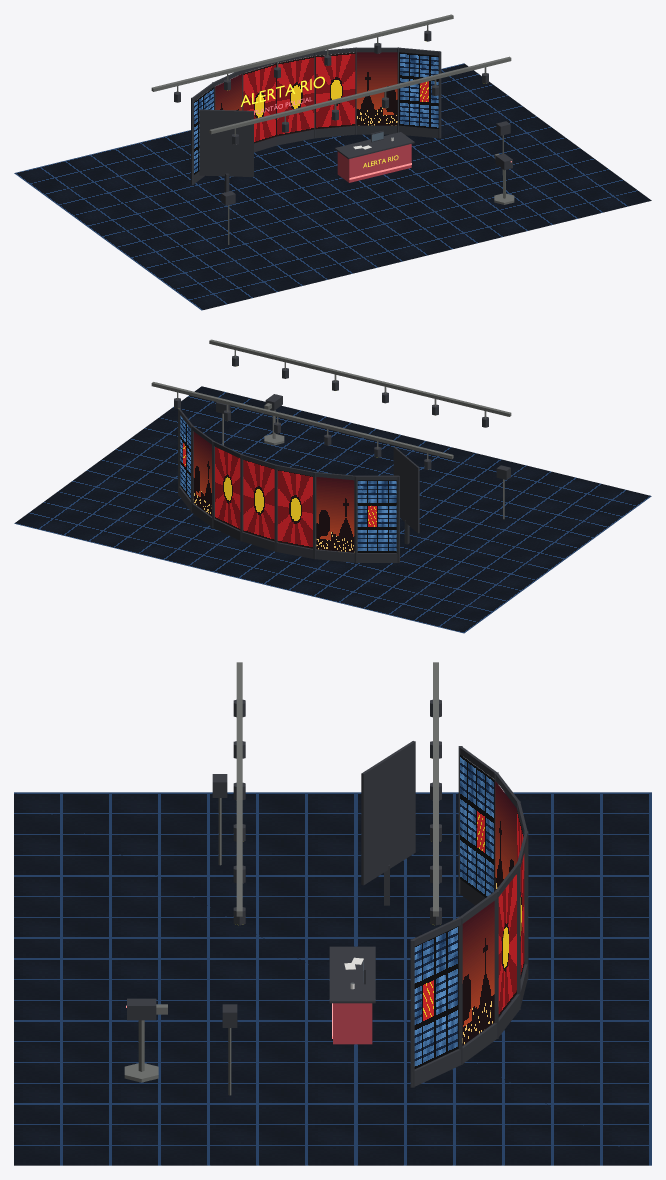
File: studio.glb
3 renders of one model, top to bottom at view 1: azimuth 30°, elevation 25°; view 2: azimuth 150°, elevation 25°; view 3: azimuth 270°, elevation 25°, orthographic. The views are drawn at different scales.
Parts seen in each view (by area): view 1: Lapa_studio_floor, Lapa_gloss_black, Lapa_tela_sirene, Lapa_iron, Lapa_tela_skyline, Lapa_tela_grade, Lapa_desk_red, Lapa_logo_yellow; view 2: Lapa_studio_floor, Lapa_gloss_black, Lapa_tela_sirene, Lapa_tela_skyline, Lapa_iron, Lapa_tela_grade; view 3: Lapa_studio_floor, Lapa_gloss_black, Lapa_tela_grade, Lapa_tela_skyline, Lapa_iron, Lapa_tela_sirene, Lapa_desk_red.
Boxes of the visible parts, left/top/right/bottom form: Lapa_studio_floor: left=14, top=63, right=651, bottom=310; Lapa_gloss_black: left=174, top=30, right=512, bottom=205; Lapa_tela_sirene: left=243, top=52, right=355, bottom=143; Lapa_iron: left=151, top=14, right=514, bottom=244; Lapa_tela_skyline: left=215, top=52, right=397, bottom=125; Lapa_tela_grade: left=194, top=52, right=438, bottom=174; Lapa_desk_red: left=337, top=144, right=411, bottom=182; Lapa_logo_yellow: left=227, top=76, right=398, bottom=167; Lapa_studio_floor: left=14, top=386, right=651, bottom=633; Lapa_gloss_black: left=174, top=355, right=510, bottom=562; Lapa_tela_sirene: left=215, top=446, right=312, bottom=548; Lapa_tela_skyline: left=193, top=432, right=354, bottom=552; Lapa_iron: left=151, top=339, right=511, bottom=519; Lapa_tela_grade: left=180, top=415, right=396, bottom=552; Lapa_studio_floor: left=14, top=792, right=651, bottom=1165; Lapa_gloss_black: left=127, top=699, right=528, bottom=1087; Lapa_tela_grade: left=414, top=754, right=494, bottom=1068; Lapa_tela_skyline: left=462, top=781, right=516, bottom=1045; Lapa_iron: left=124, top=662, right=438, bottom=1095; Lapa_tela_sirene: left=498, top=810, right=524, bottom=1016; Lapa_desk_red: left=333, top=1003, right=372, bottom=1044.
Bounding box in the file's own units: 18 × 4.32 × 13.
15 materials, 5 textured.
